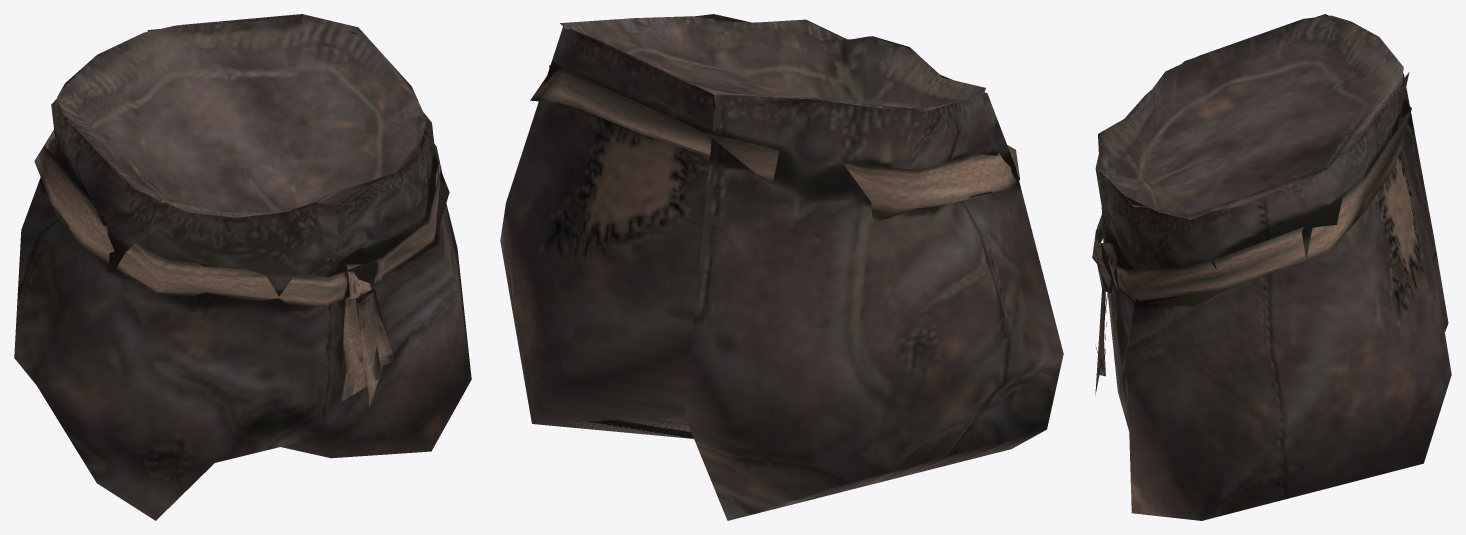
The model's file is gib_pelvis.gltf.
3 renders of one model, left to right at view 1: azimuth 30°, elevation 25°; view 2: azimuth 150°, elevation 25°; view 3: azimuth 270°, elevation 25°, orthographic. The views are drawn at different scales.
Visible parts, largest first — view 1: Object_8; view 2: Object_8; view 3: Object_8.
Boxes of the visible parts, <box> form: Object_8: <box>14,14,471,520</box>; Object_8: <box>500,14,1063,520</box>; Object_8: <box>1092,14,1451,520</box>.
Bounding box in the file's own units: 0.4256 × 0.3331 × 0.2876.
Materials: 1 (1 with a texture image).
